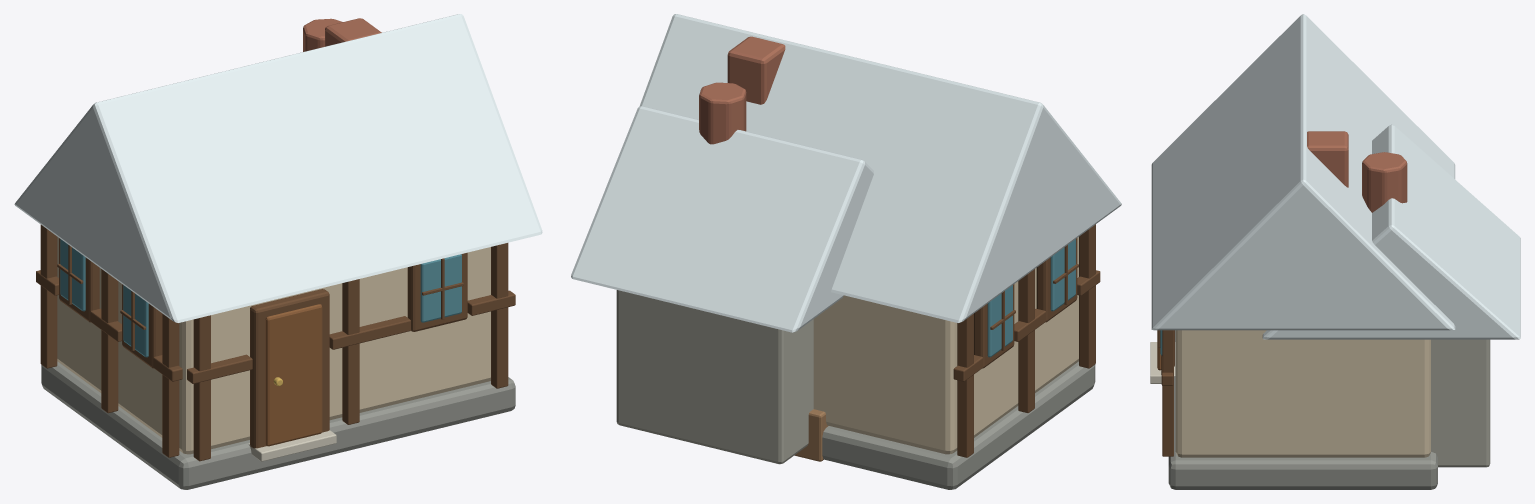
File: snowy-cottage-3.glb
3 views of the same model, side by side, from view 1: azimuth 30°, elevation 25°; view 2: azimuth 150°, elevation 25°; view 3: azimuth 270°, elevation 25° (orthographic). The views are drawn at different scales.
Parts seen in each view (by area): view 1: Snow, Ivory plaster, Dark beams, Foundation stone, Door oak, Blue glass, Chimney brick, Cut limestone; view 2: Snow, Fieldstone, Ivory plaster, Dark beams, Foundation stone, Chimney brick, Blue glass, Aged oak; view 3: Snow, Ivory plaster, Foundation stone, Fieldstone, Chimney brick, Dark beams, Cut limestone.
Part boxes in pixels (x1,y1,x2,y2): Snow: (14, 14, 542, 322); Ivory plaster: (57, 237, 490, 454); Dark beams: (36, 225, 515, 461); Foundation stone: (41, 361, 515, 489); Door oak: (265, 304, 322, 446); Blue glass: (60, 239, 461, 357); Chimney brick: (303, 18, 381, 51); Cut limestone: (248, 430, 336, 461); Snow: (571, 14, 1121, 332); Fieldstone: (616, 290, 813, 464); Ivory plaster: (813, 237, 1078, 454); Dark beams: (953, 224, 1100, 457); Foundation stone: (822, 361, 1095, 489); Chimney brick: (699, 36, 785, 144); Blue glass: (987, 239, 1075, 357); Aged oak: (794, 409, 828, 461); Snow: (1151, 14, 1520, 339); Ivory plaster: (1175, 330, 1430, 457); Foundation stone: (1168, 330, 1437, 489); Fieldstone: (1431, 339, 1490, 467); Chimney brick: (1307, 131, 1407, 212); Dark beams: (1158, 330, 1174, 456); Cut limestone: (1150, 342, 1175, 383).
Size of the model in its own units: 3.44 by 3.03 by 3.19.
